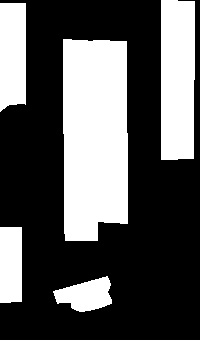parkingspot: (63, 39, 97, 240), (93, 40, 127, 223), (161, 0, 194, 159), (0, 3, 25, 111), (53, 276, 111, 311), (0, 227, 21, 302)
